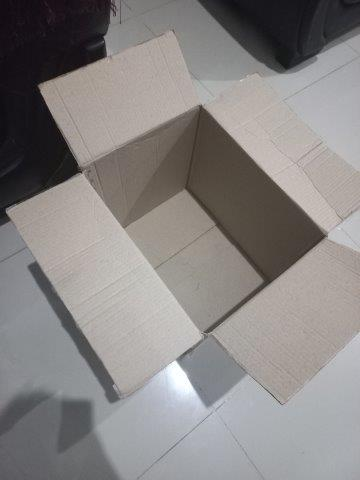kardus: (5, 32, 360, 405)
